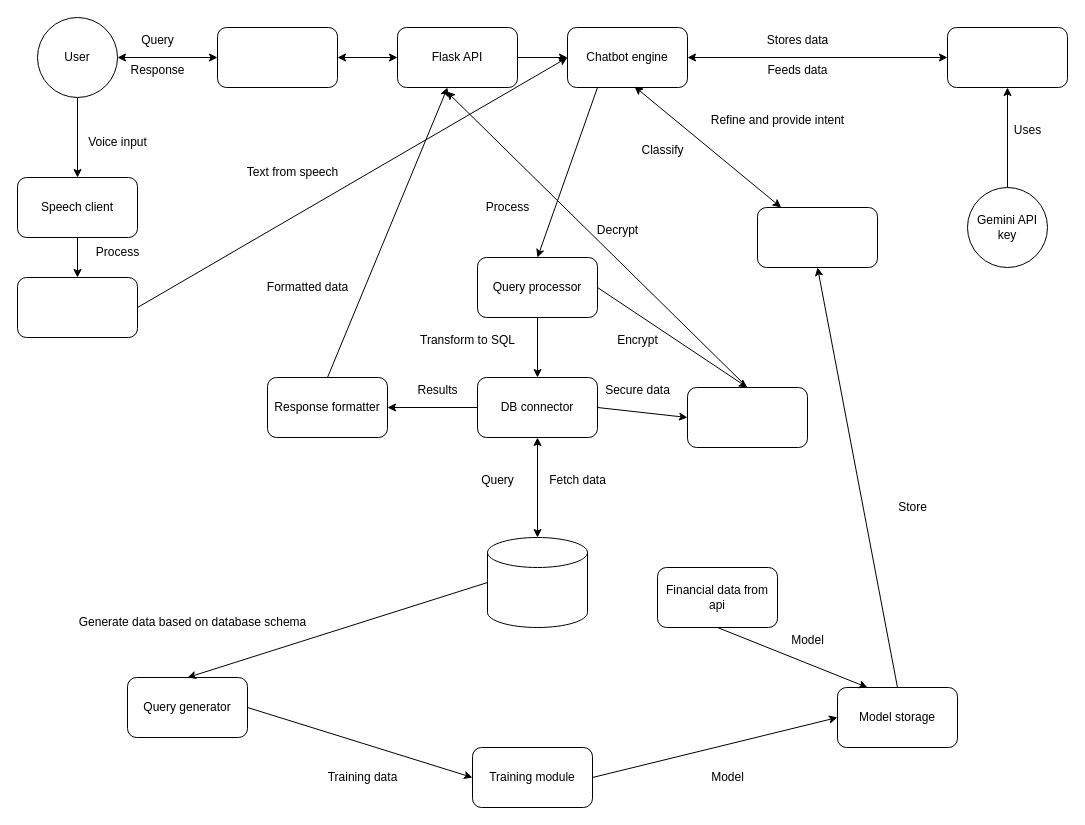
This 1085x825 diagram has some shape labels left out. Here are the shapes that lost their labels. From the top down, the centre of each, then its label:
At point 277,57: "Web interface".
At point 1007,57: "Prompt evolver".
At point 817,237: "Intent classifier".
At point 77,307: "Speech recognition".
At point 747,417: "Encryption Manager".
At point 537,582: "Financial DB".
